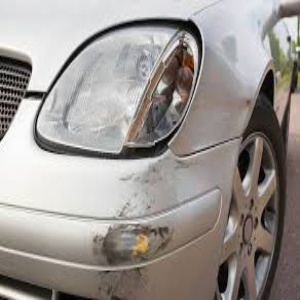bumper_scratch: (84, 165, 188, 297)
